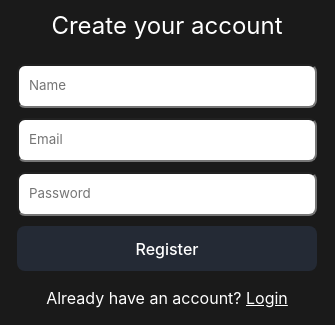
Scenario: Register spec › should display login page when Email and password are correct
This screenshot has width=335, height=325.
// mengisi name
In the field with placeholder "Name": [167, 86] box [17,64,317,108], type "testv2"
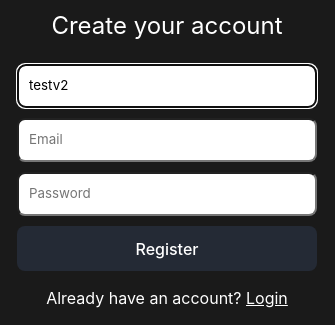
// mengisi email
In the field with placeholder "Email": [167, 140] box [17,118,317,162], type "testv2@gmail.com"
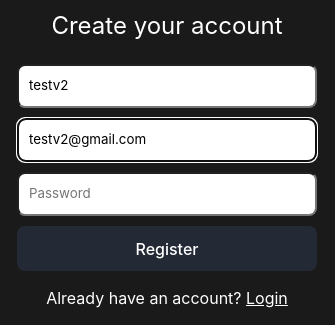
// mengisi password
In the password field with placeholder "Password": [167, 194] box [17,172,317,216], type "testv2"
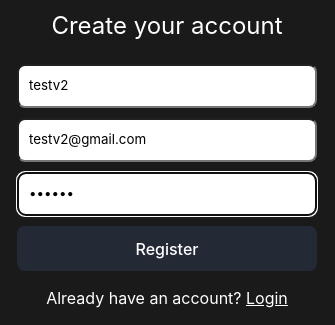
// menekan tombol Register
Click the button "Register": [167, 249] box [17,226,317,271]
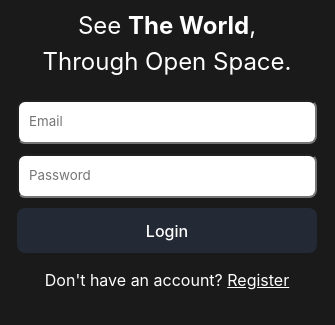
Result: the button "Login" is shown at [17,208,317,253]
